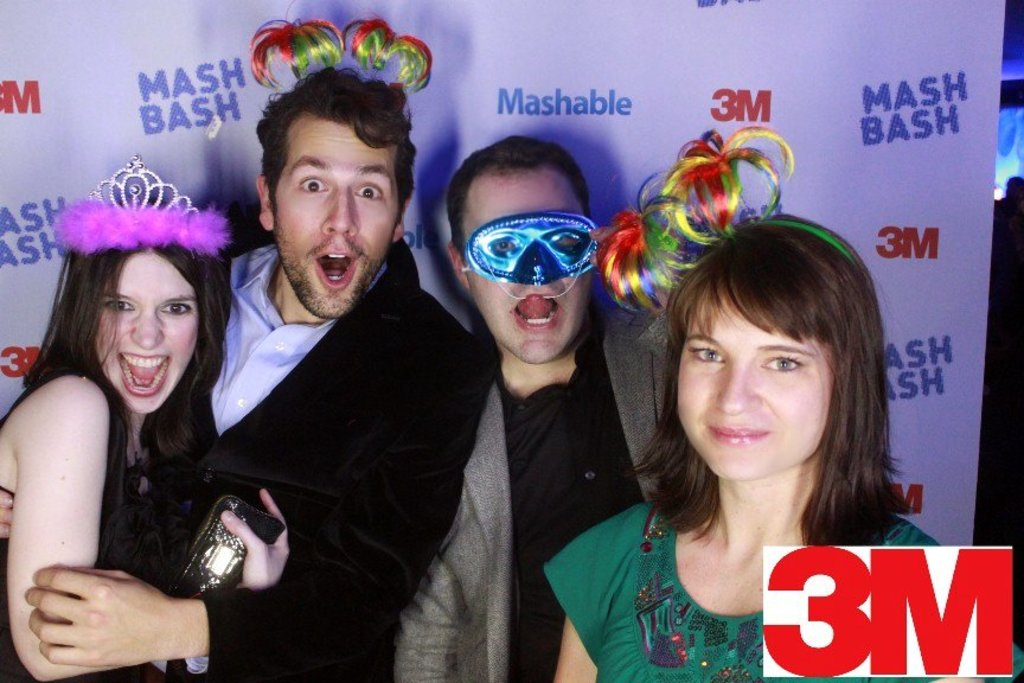Person: (0, 64, 1024, 683)
